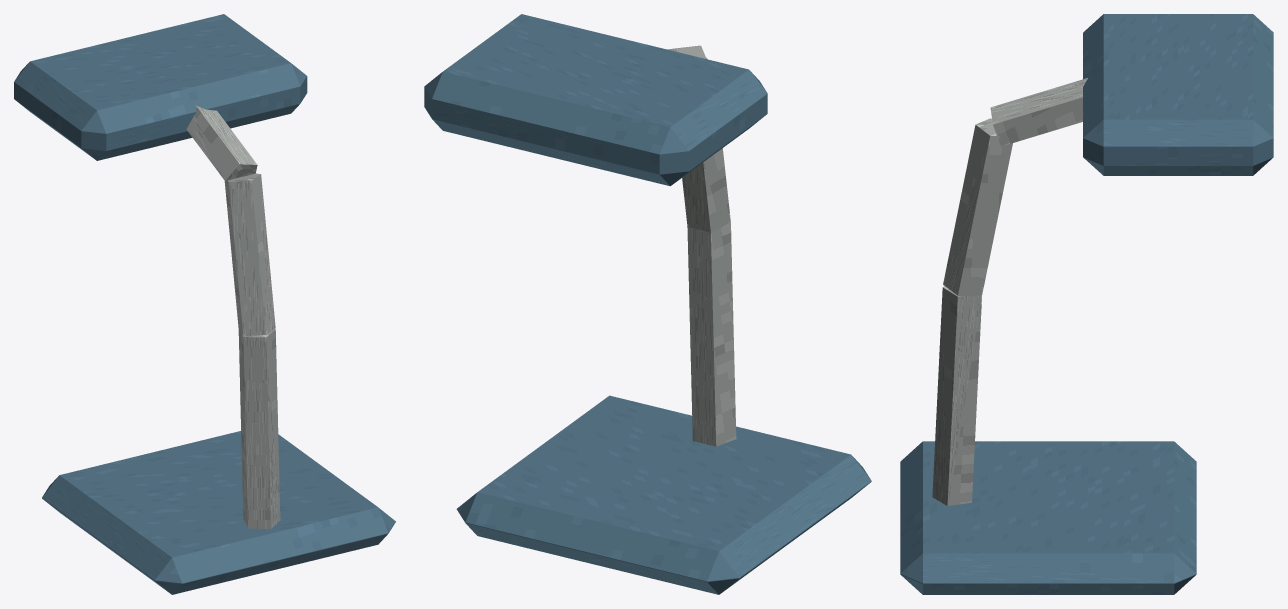
The model's file is smart_lamp.glb.
3 renders of one model, left to right at view 1: azimuth 30°, elevation 25°; view 2: azimuth 150°, elevation 25°; view 3: azimuth 270°, elevation 25°, orthographic. The views are drawn at different scales.
Parts seen in each view (by area): view 1: block_weighted lamp base, block_flat lamp head, block_adjustable stem 0, block_adjustable stem 1, block_adjustable stem 2; view 2: block_weighted lamp base, block_flat lamp head, block_adjustable stem 0, block_adjustable stem 1; view 3: block_weighted lamp base, block_flat lamp head, block_adjustable stem 0, block_adjustable stem 1, block_adjustable stem 2.
Part boxes in pixels (box(x1,y1,x2,y2)): block_weighted lamp base: box(42, 431, 395, 594); block_flat lamp head: box(14, 14, 307, 160); block_adjustable stem 0: box(238, 329, 280, 529); block_adjustable stem 1: box(224, 173, 275, 336); block_adjustable stem 2: box(186, 105, 257, 183); block_weighted lamp base: box(456, 395, 871, 594); block_flat lamp head: box(424, 14, 767, 186); block_adjustable stem 0: box(687, 222, 736, 446); block_adjustable stem 1: box(682, 57, 730, 232); block_weighted lamp base: box(900, 441, 1196, 594); block_flat lamp head: box(1083, 14, 1273, 175); block_adjustable stem 0: box(932, 286, 981, 505); block_adjustable stem 1: box(943, 118, 1012, 295); block_adjustable stem 2: box(990, 78, 1087, 146).
Size of the model in its own units: 0.1391 by 0.2333 by 0.1672.
Materials: 1 (1 with a texture image).
